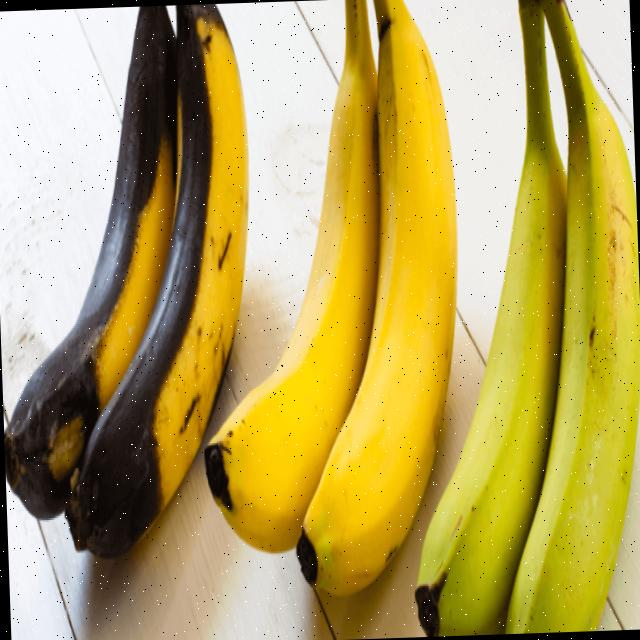Pisang: (45, 2, 261, 560), (393, 0, 583, 632), (276, 0, 469, 599), (187, 0, 394, 555), (482, 0, 640, 632), (0, 5, 193, 521)
